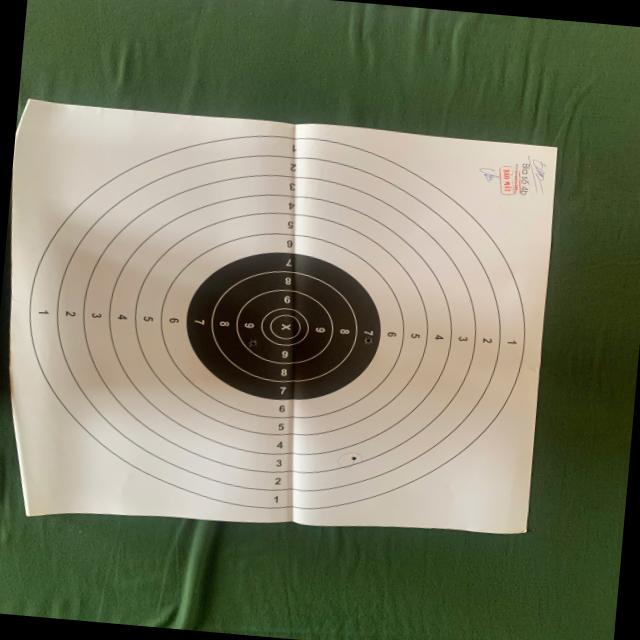bullet: (365, 337, 372, 344), (351, 456, 357, 461), (250, 340, 255, 346)
target: (10, 99, 556, 533)
